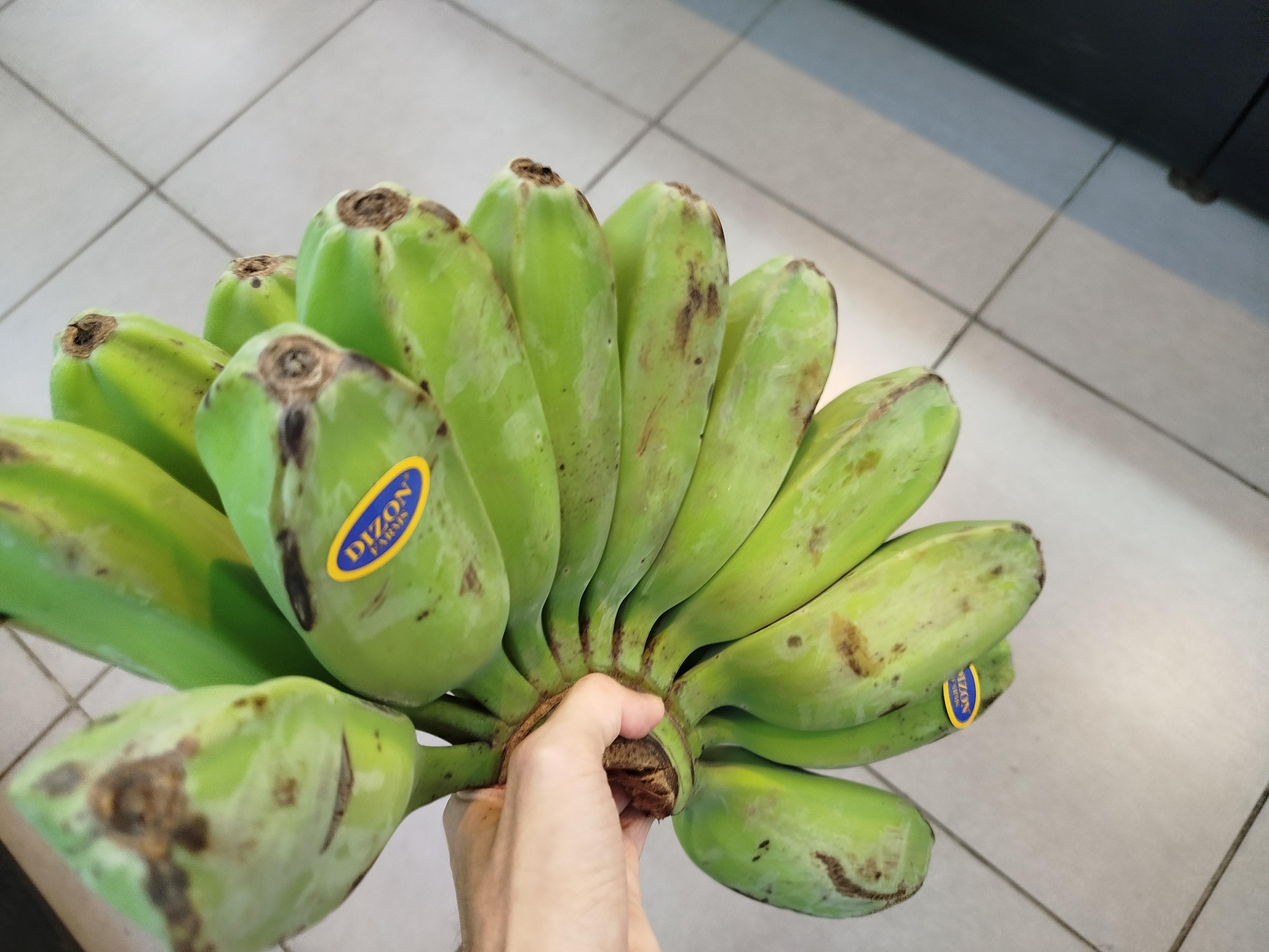underripe: (3, 158, 1044, 949)
